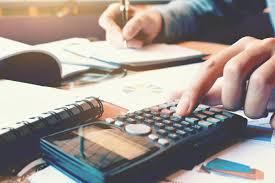Calculator: (42, 89, 251, 183)
